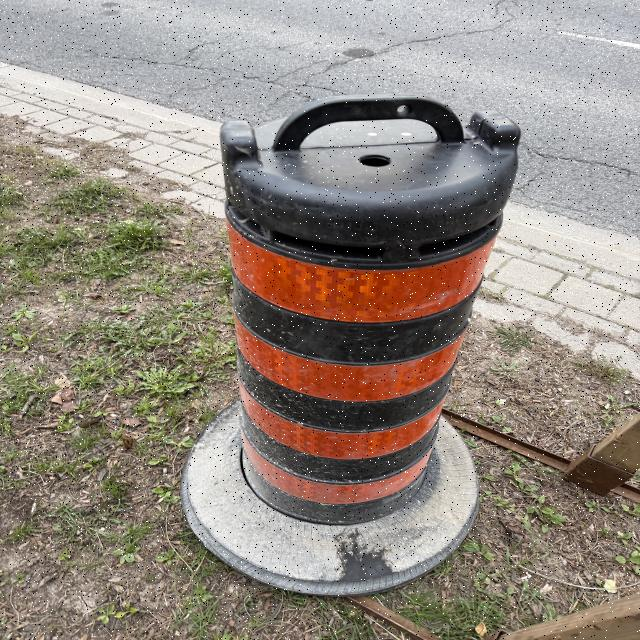Teraffic Barrel: (183, 96, 519, 593)
